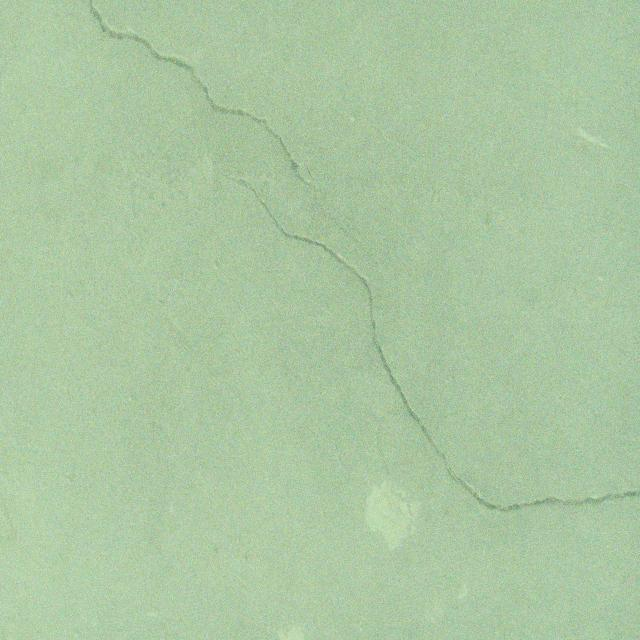crack: (206, 142, 640, 513), (88, 0, 360, 244)
